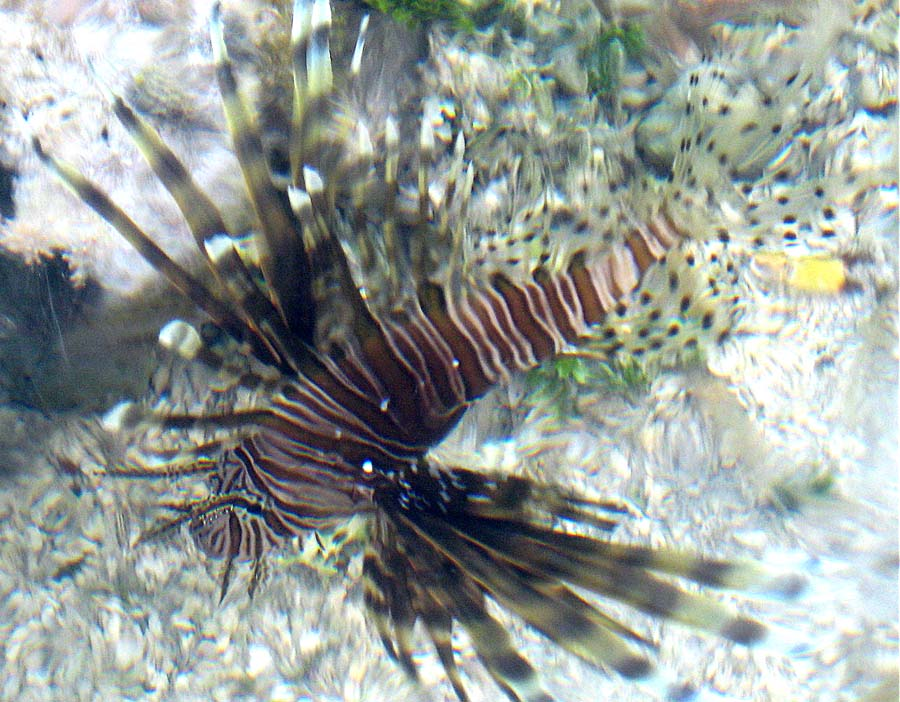Pterois_volitans: (71, 90, 894, 690)
